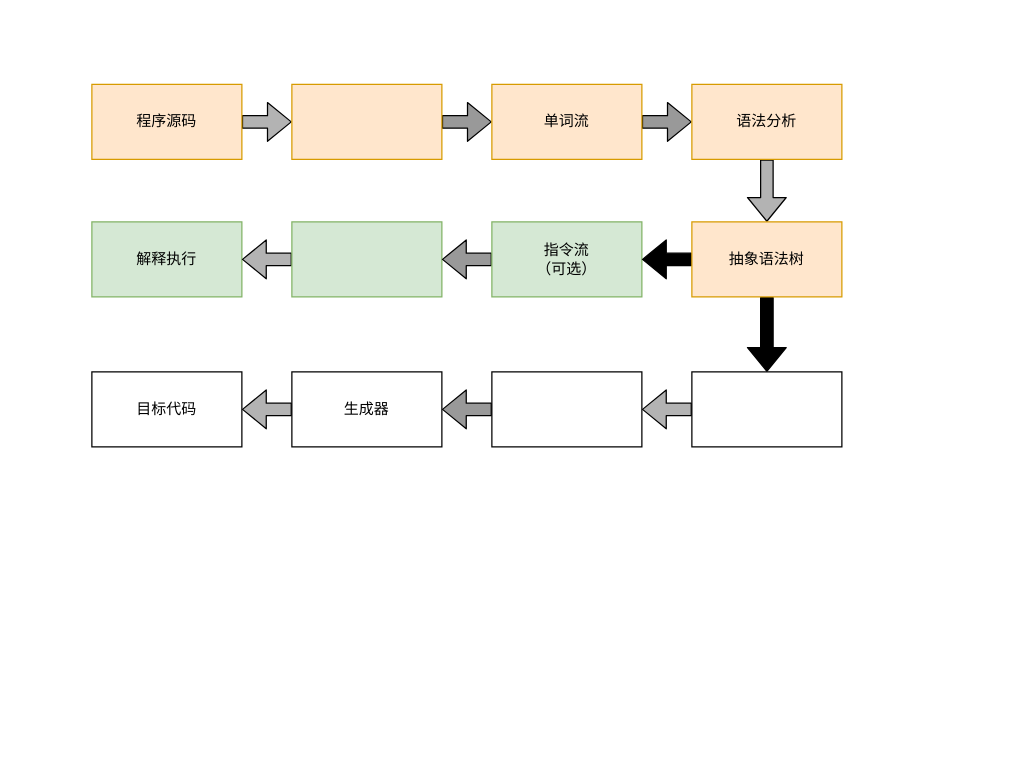
Image size: 1014x768. Some labels were removed from this diagram. Here are the shapes that lost their labels. From the top down, the box of each, then its label:
(291, 83, 442, 159): 词法分析
(291, 221, 442, 297): 解释器
(491, 371, 642, 447): 中间代码 （可选）
(691, 371, 842, 447): 优化器 （可选）
